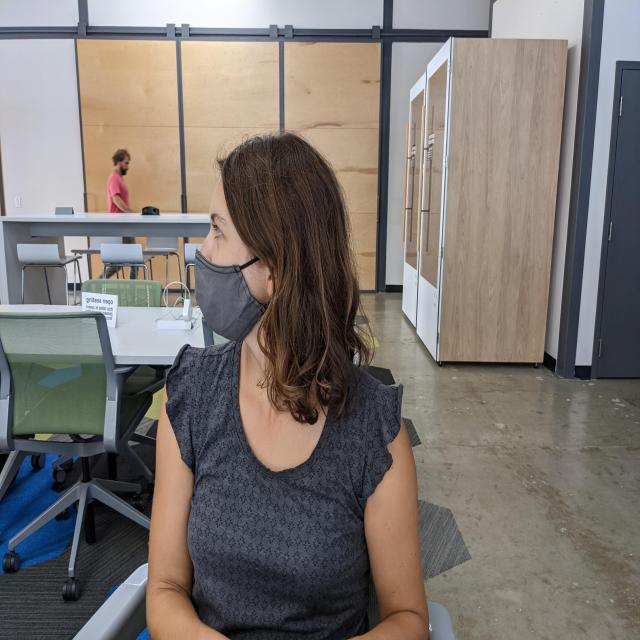face: (194, 178, 282, 342), (118, 157, 130, 176)
